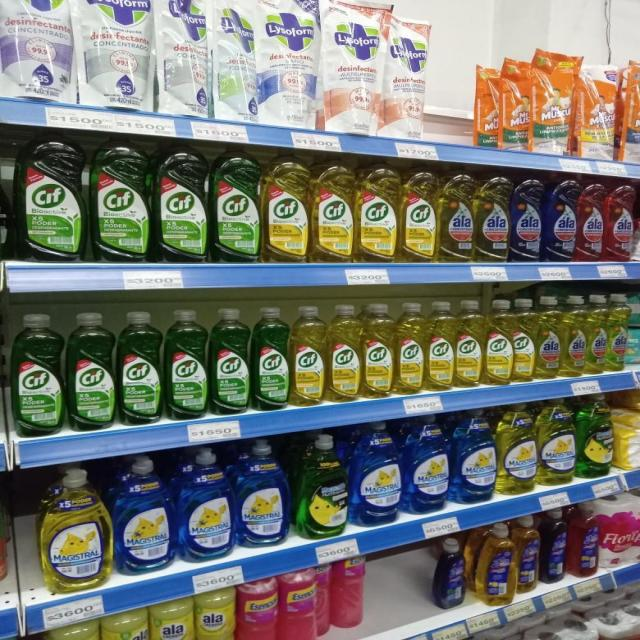ala_conc_amarillo: (438, 169, 474, 264), (475, 173, 510, 263), (561, 294, 586, 379), (536, 296, 560, 380), (586, 294, 606, 376), (607, 293, 626, 373)
ala_conc_azul: (544, 178, 577, 263), (511, 176, 543, 262)
ala_conc_rojo: (605, 182, 634, 262), (578, 180, 604, 262)
ala_crem_amarillo: (196, 586, 235, 640), (151, 597, 193, 640), (102, 608, 150, 640), (46, 619, 100, 640)
cif_conc_bot_amarilla: (262, 151, 309, 264), (311, 158, 354, 264), (356, 162, 398, 264), (400, 166, 437, 264), (291, 305, 325, 408), (327, 303, 361, 404), (362, 302, 394, 400), (396, 301, 425, 396), (455, 299, 484, 389), (426, 300, 454, 393), (484, 298, 512, 387), (514, 297, 536, 384)
cif_conc_botella_verde: (18, 130, 85, 262), (90, 136, 150, 263), (8, 312, 64, 437), (154, 142, 208, 264), (66, 312, 115, 432), (212, 146, 260, 264), (118, 310, 162, 425), (165, 308, 208, 421), (210, 307, 250, 416), (252, 306, 290, 412), (0, 128, 15, 262)
magistral_con_amarillo: (39, 468, 110, 592), (498, 403, 536, 496)
magistral_con_azul: (114, 456, 174, 575), (177, 448, 233, 562), (236, 439, 290, 548), (351, 420, 402, 527), (405, 413, 450, 515), (453, 408, 496, 504)
zorro: (476, 524, 514, 606), (542, 508, 567, 585), (516, 514, 540, 593)
